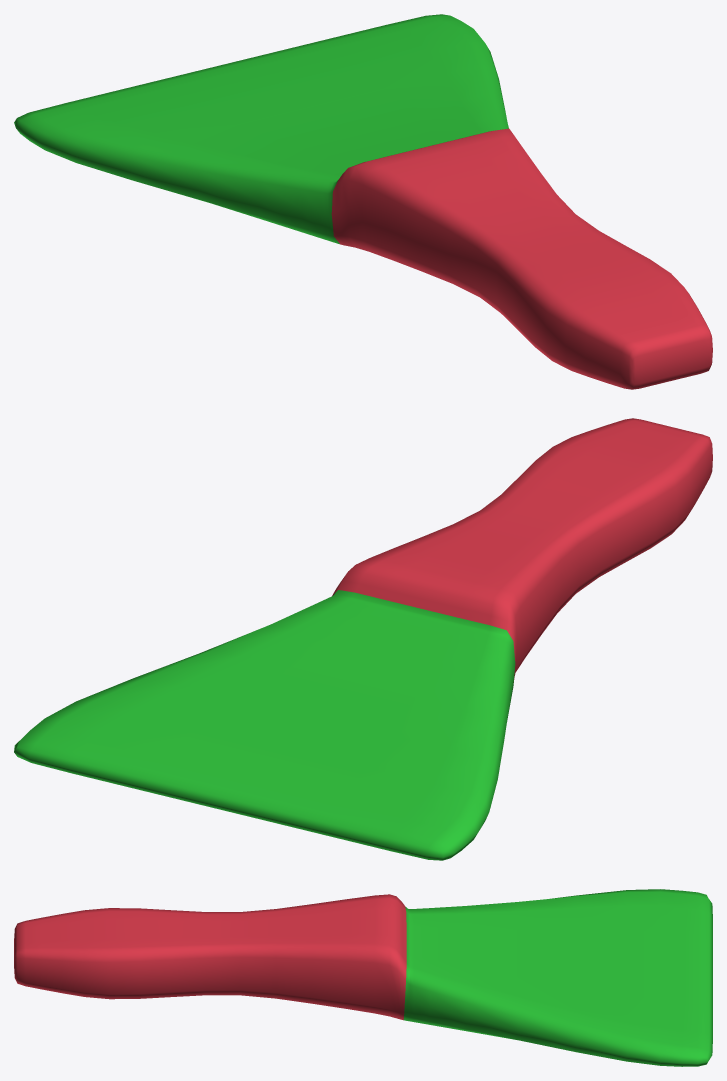
The model's file is scrapingTool.fbx.
3 renders of one model, top to bottom at view 1: azimuth 30°, elevation 25°; view 2: azimuth 150°, elevation 25°; view 3: azimuth 270°, elevation 25°, orthographic. The views are drawn at different scales.
Visible parts, largest first — view 1: scrapingTool; view 2: scrapingTool; view 3: scrapingTool.
Boxes of the visible parts, x1,y1,x2,y2 form: scrapingTool: (14,14,712,389); scrapingTool: (14,418,712,860); scrapingTool: (14,889,712,1066).
Size of the model in its own units: 17.16 by 3.23 by 30.12.
